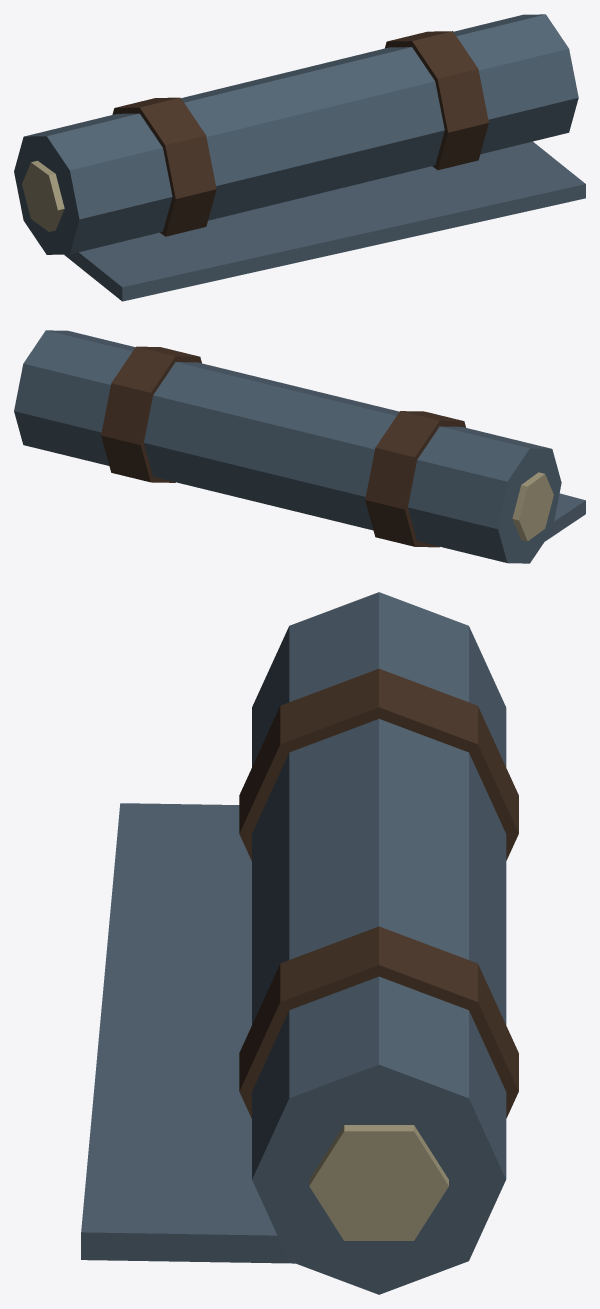
Rendered from item_blueprint.glb.
The picture shows the model from 3 angles, top to bottom: view 1: azimuth 30°, elevation 25°; view 2: azimuth 150°, elevation 25°; view 3: azimuth 270°, elevation 25°; orthographic projection. The views are drawn at different scales.
Parts seen in each view (by area): view 1: blueprint; view 2: blueprint; view 3: blueprint.
Boxes of the visible parts, x1=… form: blueprint: x1=14, y1=14, x2=585, y2=301; blueprint: x1=14, y1=330, x2=585, y2=563; blueprint: x1=81, y1=592, x2=518, y2=1294.
Size of the model in its own units: 0.452 by 0.11 by 0.1723.
